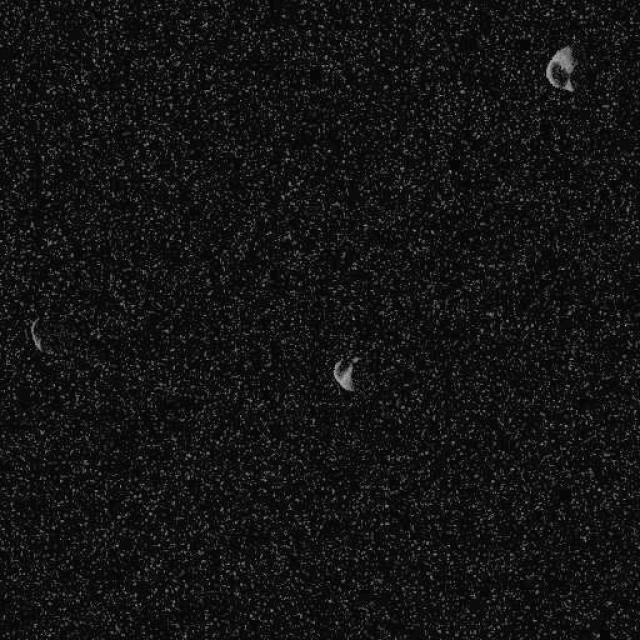D2: (544, 44, 578, 92), (332, 355, 358, 393), (28, 315, 46, 354)
